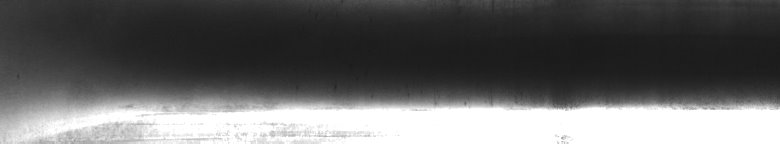ke: (17, 4, 776, 136)
